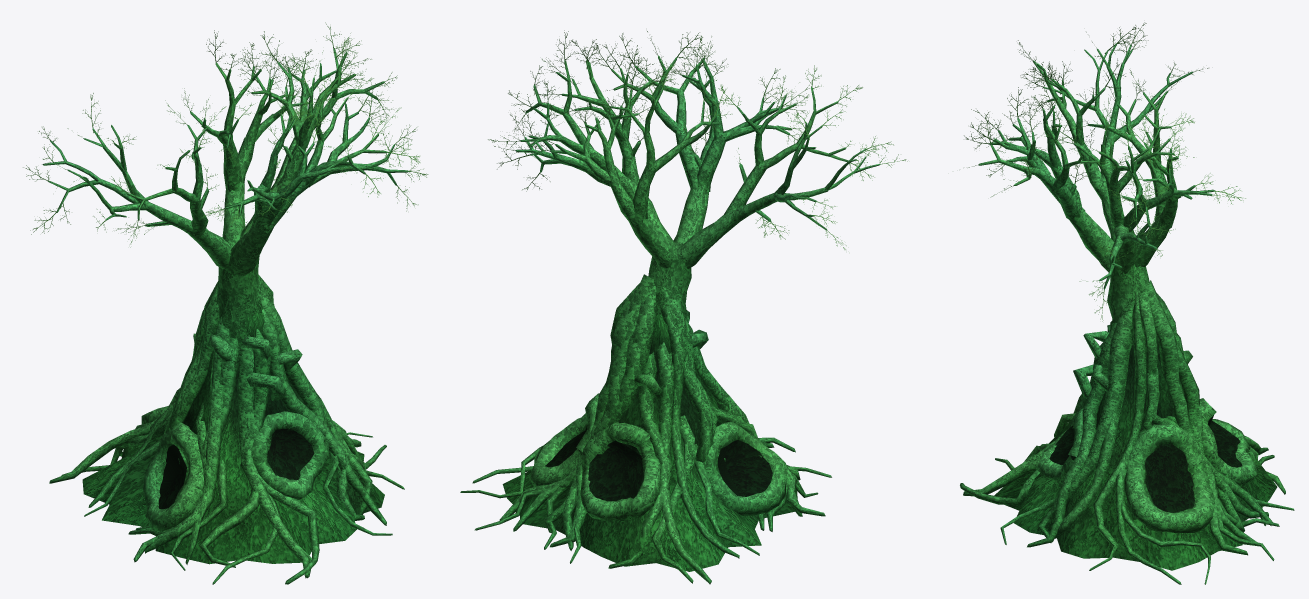
The model's file is mm6_deco_swptree4.glb.
The picture shows the model from 3 angles, left to right: view 1: azimuth 30°, elevation 25°; view 2: azimuth 150°, elevation 25°; view 3: azimuth 270°, elevation 25°; orthographic projection. The views are drawn at different scales.
Parts seen in each view (by area): view 1: Tree; view 2: Tree; view 3: Tree.
Part boxes in pixels (x1,y1,x2,y2): Tree: (23, 22, 428, 584); Tree: (460, 30, 907, 584); Tree: (960, 22, 1294, 584).
Size of the model in its own units: 5.68 by 6.61 by 4.8.
2 materials, 2 textured.
